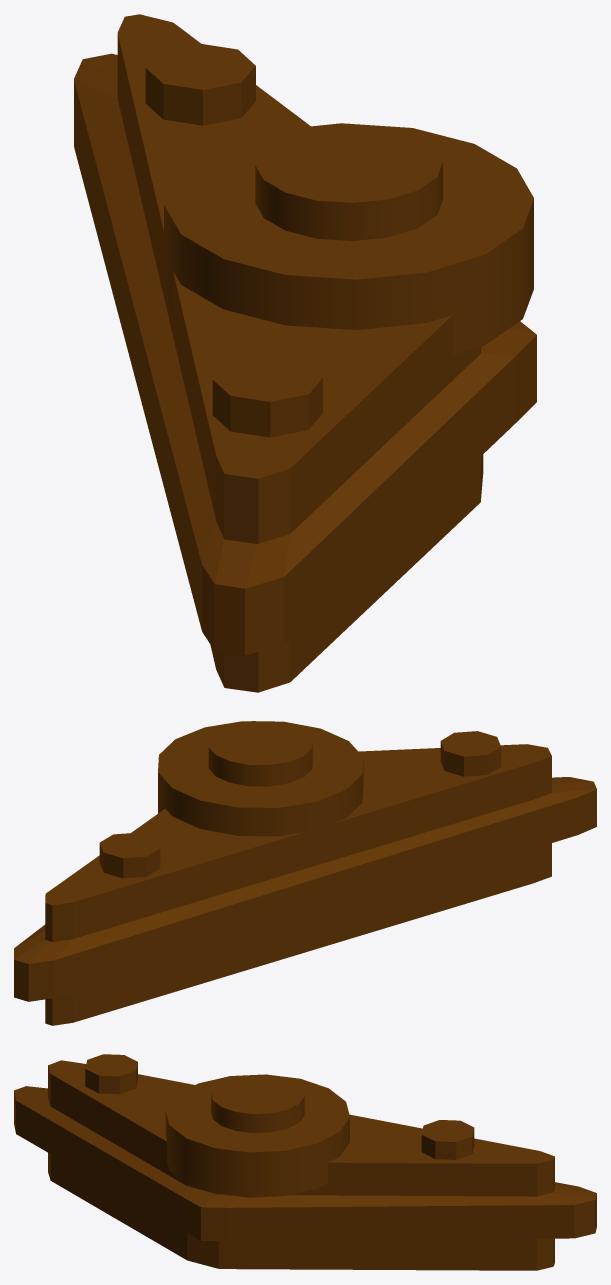
Rendered from bumper_triangle_right.glb.
3 renders of one model, top to bottom at view 1: azimuth 30°, elevation 25°; view 2: azimuth 150°, elevation 25°; view 3: azimuth 270°, elevation 25°, orthographic. The views are drawn at different scales.
Visible parts, largest first — view 1: Plane.004; view 2: Plane.004; view 3: Plane.004.
Part boxes in pixels (<box>): Plane.004: <box>74,14,536,692</box>; Plane.004: <box>14,721,596,1025</box>; Plane.004: <box>14,1054,596,1270</box>.
Size of the model in its own units: 0.095 by 0.0522 by 0.1825.
